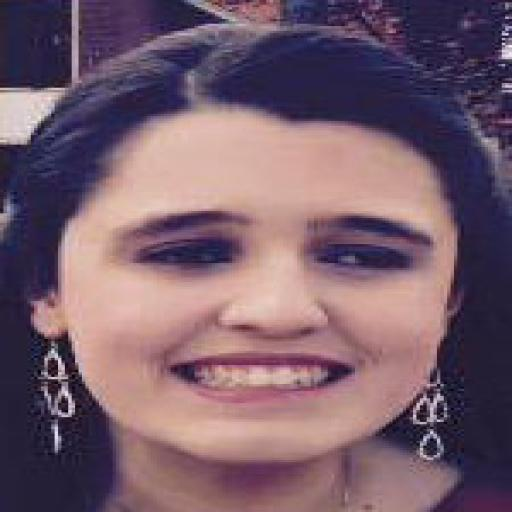Autism: (27, 7, 512, 512)
